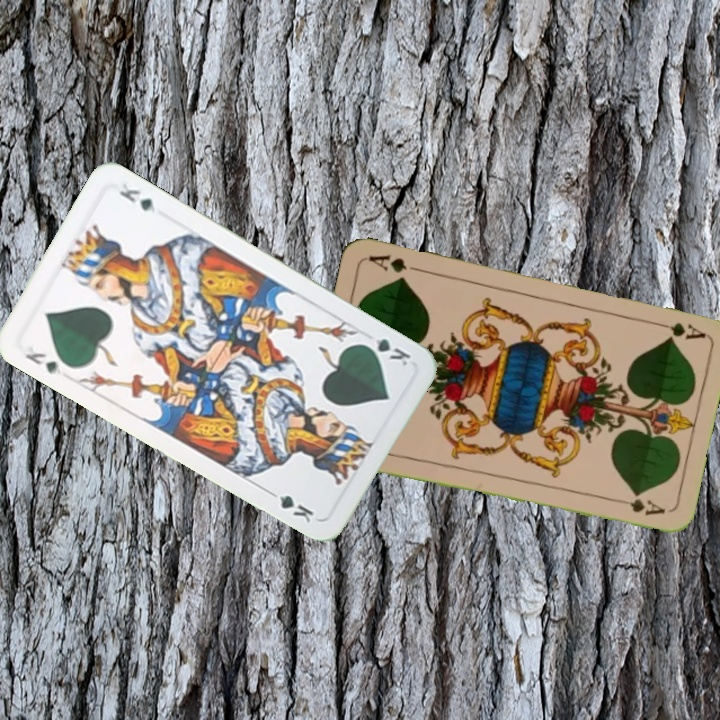GA: (649, 317, 707, 342)
GK: (357, 332, 414, 369), (21, 348, 65, 378)
